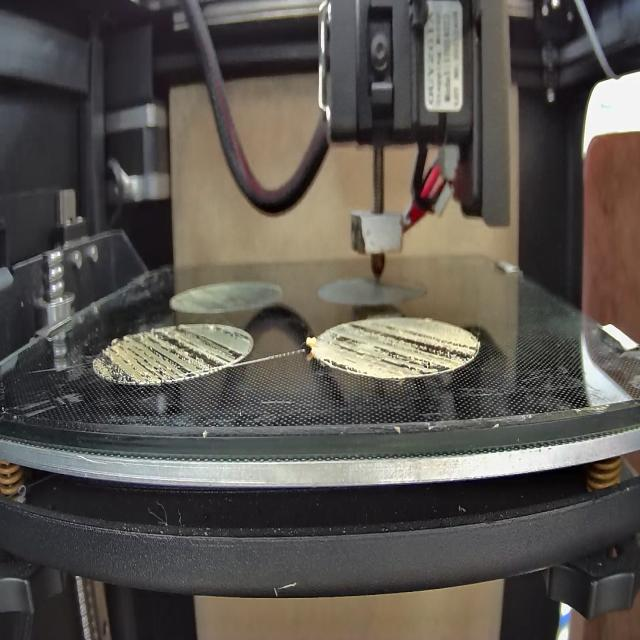under_extrusion: (325, 318, 480, 374), (99, 326, 248, 381)
